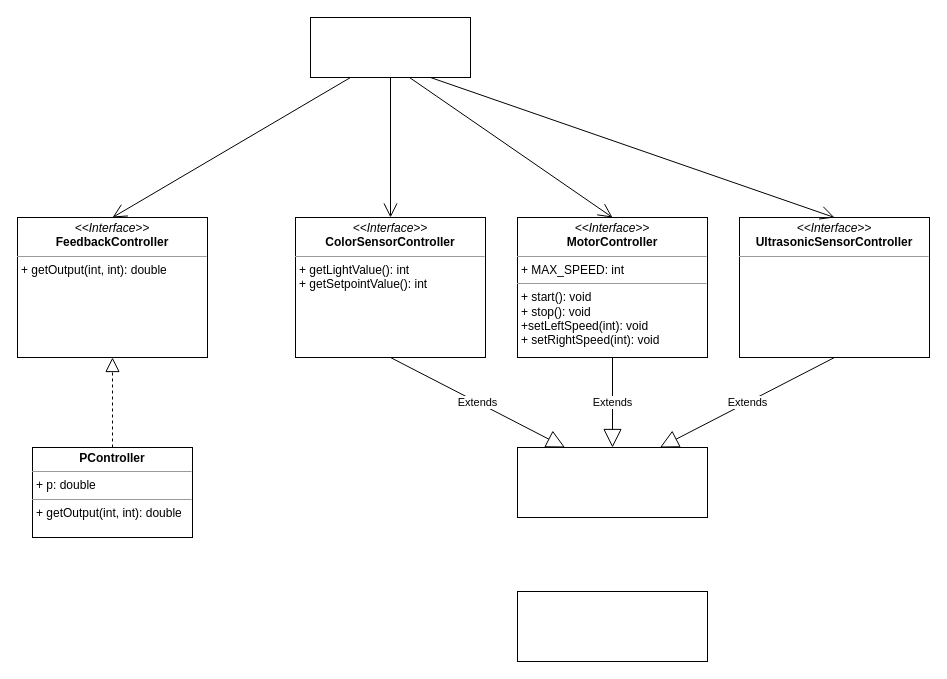
Some shapes in this 947 by 679 pixel diagram are drawn without their labels. The shapes that lost their labels are listed below. From the top down, each one's centre as x and y in pixels, then its label:
pixel 390 47: Driver + drive(): void
pixel 612 482: <<Interface>> BaseController + calibrate(Calibrator): void
pixel 612 626: <<Interface>> Calibrator + runCalibration(): void
